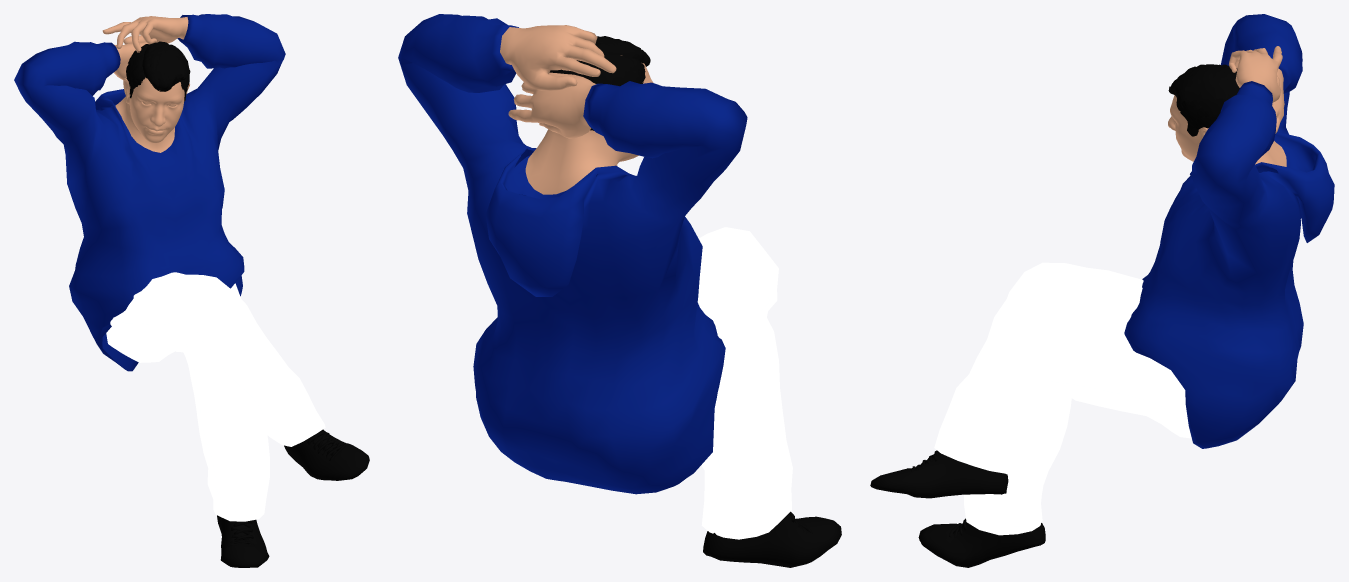
File: Man_04_Sitting-transformed.glb
3 renders of one model, left to right at view 1: azimuth 30°, elevation 25°; view 2: azimuth 150°, elevation 25°; view 3: azimuth 270°, elevation 25°, orthographic. The views are drawn at different scales.
Parts seen in each view (by area): view 1: Tops, Bottoms, Body, Shoes, Hair; view 2: Tops, Bottoms, Body, Shoes, Hair; view 3: Tops, Bottoms, Shoes, Body, Hair.
Part boxes in pixels (x1=…): Tops: x1=14, y1=14, x2=285, y2=371; Bottoms: x1=106, y1=272, x2=325, y2=521; Body: x1=102, y1=16, x2=189, y2=152; Shoes: x1=217, y1=429, x2=369, y2=567; Hair: x1=126, y1=41, x2=190, y2=101; Tops: x1=398, y1=14, x2=747, y2=494; Bottoms: x1=697, y1=227, x2=792, y2=539; Body: x1=500, y1=25, x2=653, y2=194; Shoes: x1=703, y1=511, x2=841, y2=567; Hair: x1=549, y1=36, x2=650, y2=130; Tops: x1=1124, y1=14, x2=1334, y2=448; Bottoms: x1=934, y1=262, x2=1191, y2=535; Shoes: x1=870, y1=450, x2=1045, y2=567; Body: x1=1168, y1=46, x2=1286, y2=166; Hair: x1=1168, y1=64, x2=1239, y2=136.
Size of the model in its own units: 0.7821 by 1.36 by 1.09.
